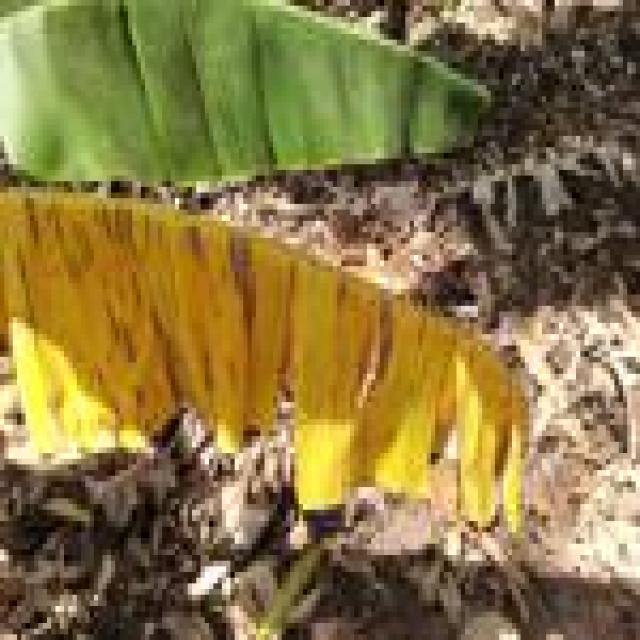Early_rust: (0, 154, 557, 568)
